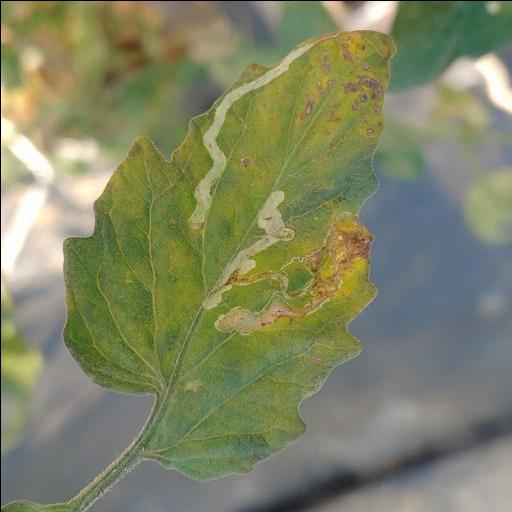Leaf Miner: (60, 28, 398, 483)
